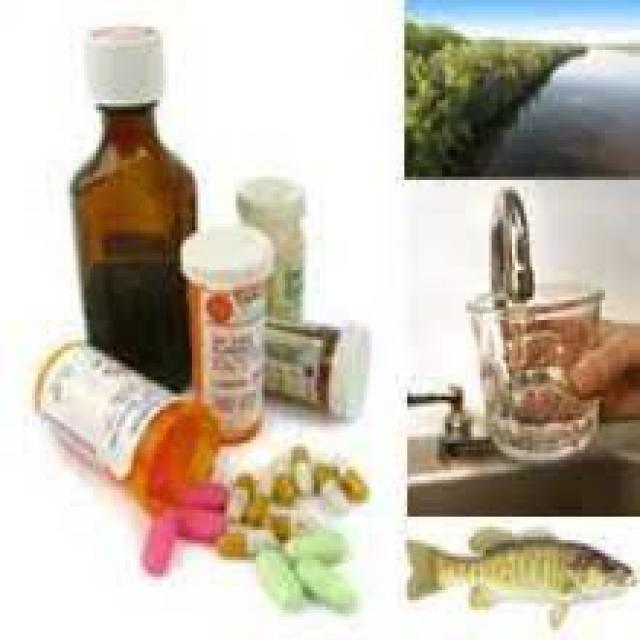B3: (55, 17, 221, 393)
